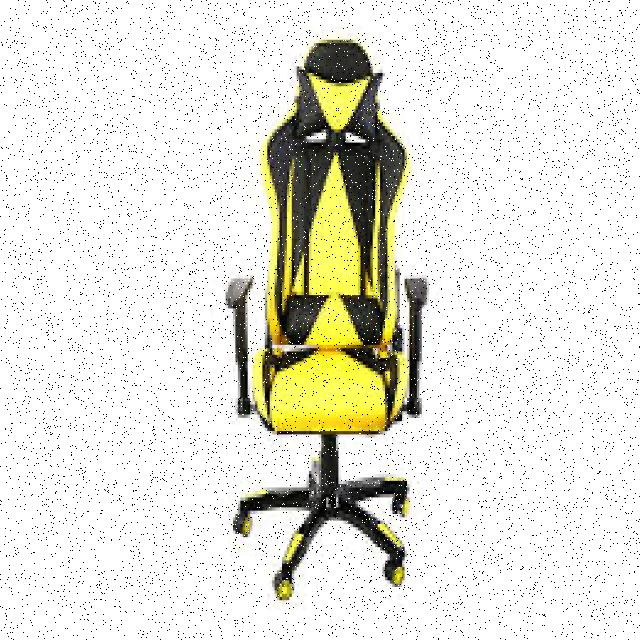bottle: (222, 38, 433, 606)
